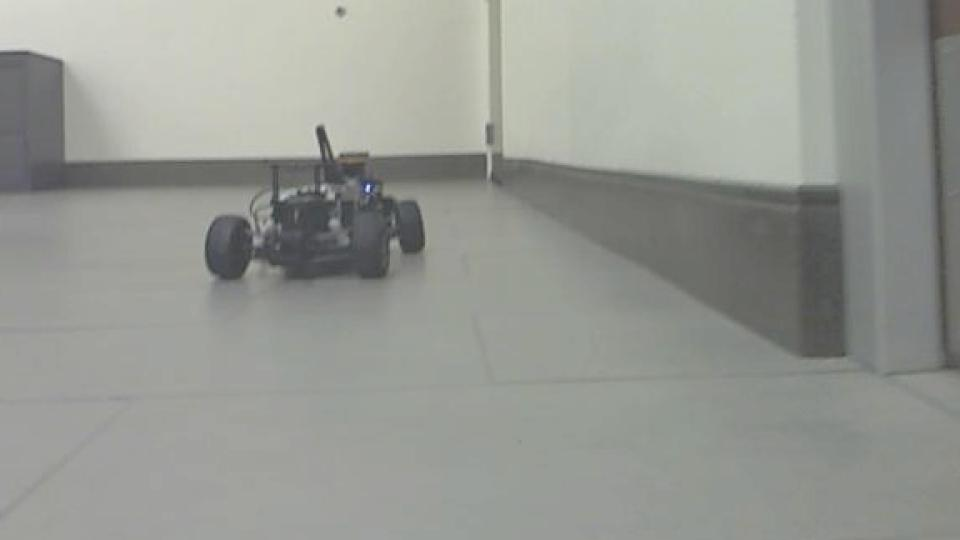car: (200, 122, 428, 285)
